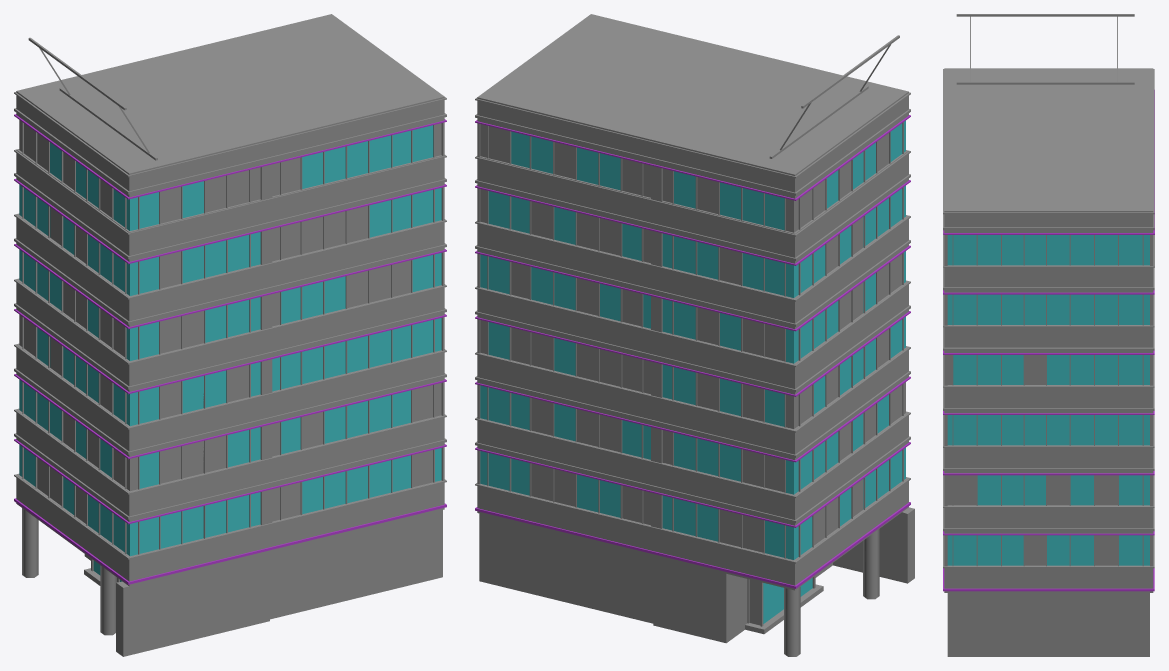
Rendered from buildings_M_02_VAR3.fbx.
3 views of the same model, side by side, from view 1: azimuth 30°, elevation 25°; view 2: azimuth 150°, elevation 25°; view 3: azimuth 270°, elevation 25° (orthographic). The views are drawn at different scales.
Visible parts, largest first — view 1: Buildings_M_02_VAR3; view 2: Buildings_M_02_VAR3; view 3: Buildings_M_02_VAR3.
Boxes of the visible parts, bbox=[...] form: Buildings_M_02_VAR3: bbox=[14, 14, 446, 656]; Buildings_M_02_VAR3: bbox=[475, 14, 914, 656]; Buildings_M_02_VAR3: bbox=[943, 14, 1154, 656].
Size of the model in its own units: 19.19 by 30.75 by 11.77.
